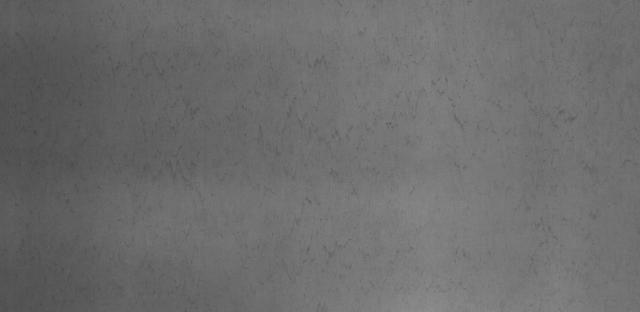silk_spot: (140, 49, 512, 290)
